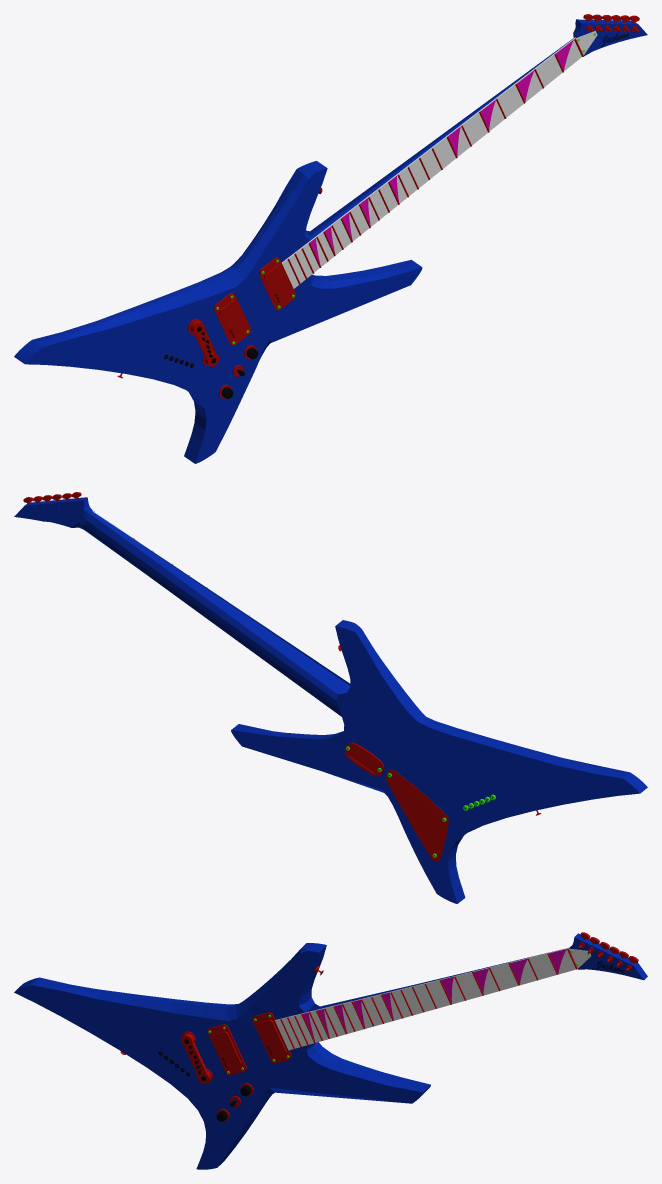
File: Guitar_fbx.fbx
The picture shows the model from 3 angles, top to bottom: view 1: azimuth 30°, elevation 25°; view 2: azimuth 150°, elevation 25°; view 3: azimuth 330°, elevation 25°; orthographic projection. The views are drawn at different scales.
Visible parts, largest first — view 1: Electroguitar_obj:Line063; view 2: Electroguitar_obj:Line063; view 3: Electroguitar_obj:Line063.
Part boxes in pixels (x1,y1,x2,y2): Electroguitar_obj:Line063: (14, 14, 647, 463); Electroguitar_obj:Line063: (14, 492, 647, 903); Electroguitar_obj:Line063: (14, 932, 647, 1169).
Bounding box in the file's own units: 6.48 × 3.27 × 0.5198.
